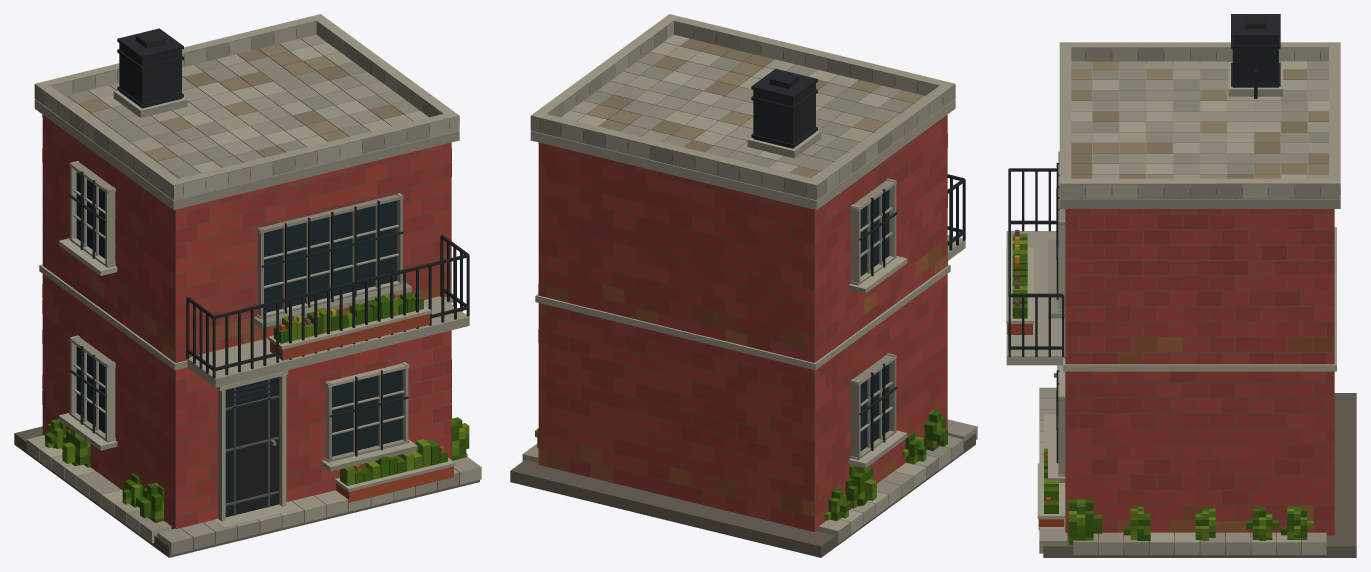
File: SM_Mapa_068.fbx
3 views of the same model, side by side, from view 1: azimuth 30°, elevation 25°; view 2: azimuth 150°, elevation 25°; view 3: azimuth 270°, elevation 25° (orthographic).
Parts seen in each view (by area): view 1: SM_Mapa_068; view 2: SM_Mapa_068; view 3: SM_Mapa_068.
Part boxes in pixels (<box>): SM_Mapa_068: <box>14,14,481,557</box>; SM_Mapa_068: <box>510,14,977,557</box>; SM_Mapa_068: <box>1006,14,1356,557</box>.
Bounding box in the file's own units: 8 × 7.51 × 10.12.
